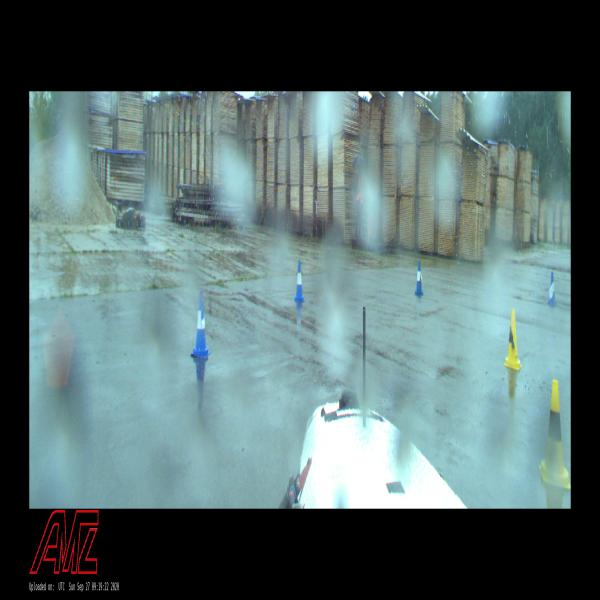blue_cone: (191, 291, 211, 358), (293, 260, 305, 302), (414, 261, 423, 295), (548, 272, 557, 306)
yellow_cone: (539, 380, 571, 489), (504, 309, 522, 371)
